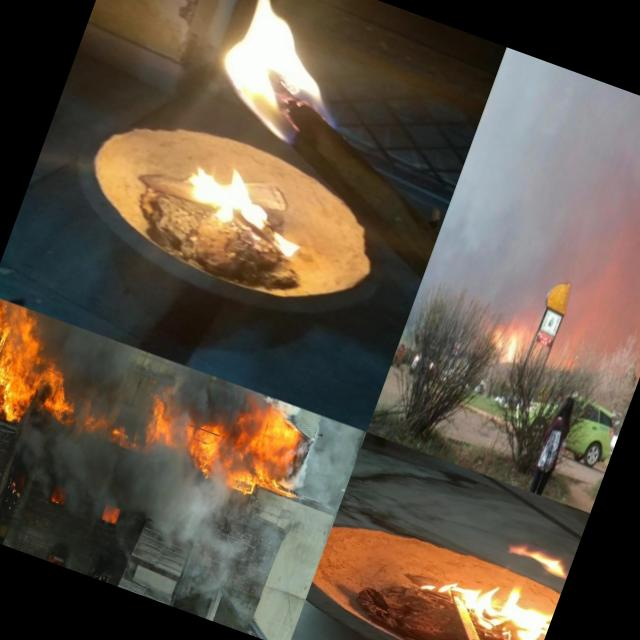fire: (203, 0, 383, 166), (133, 360, 317, 514), (174, 156, 326, 264), (0, 294, 89, 449), (405, 551, 559, 640), (494, 532, 574, 584), (496, 317, 526, 368)
